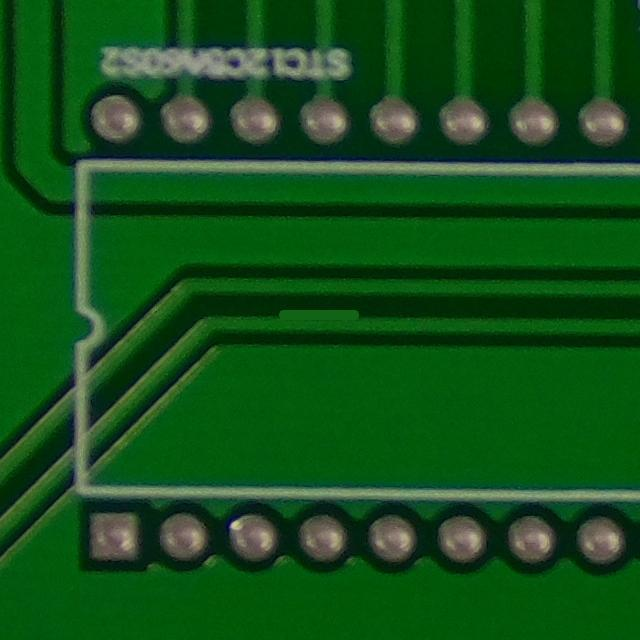spur: (261, 291, 379, 350)
